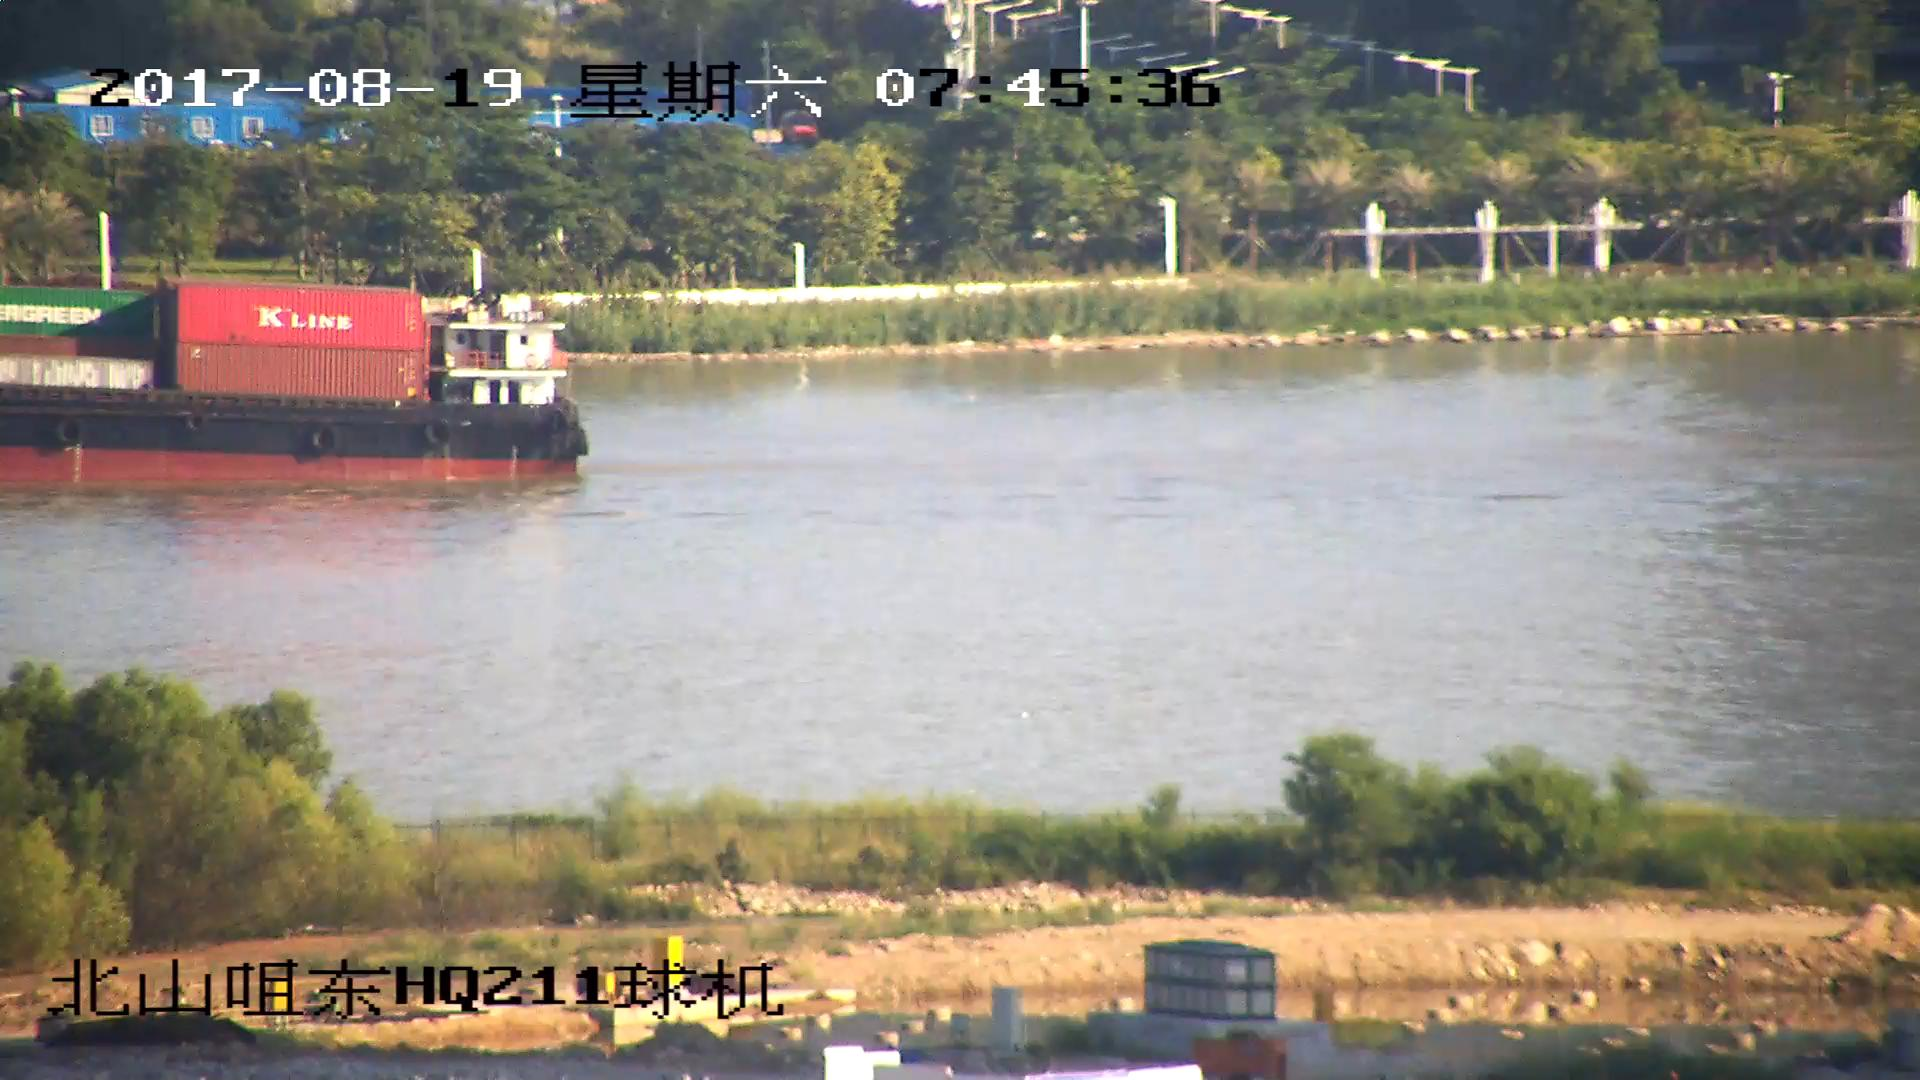container ship: (1, 273, 590, 486)
